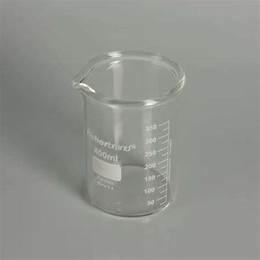Beaker: (68, 46, 189, 226)
